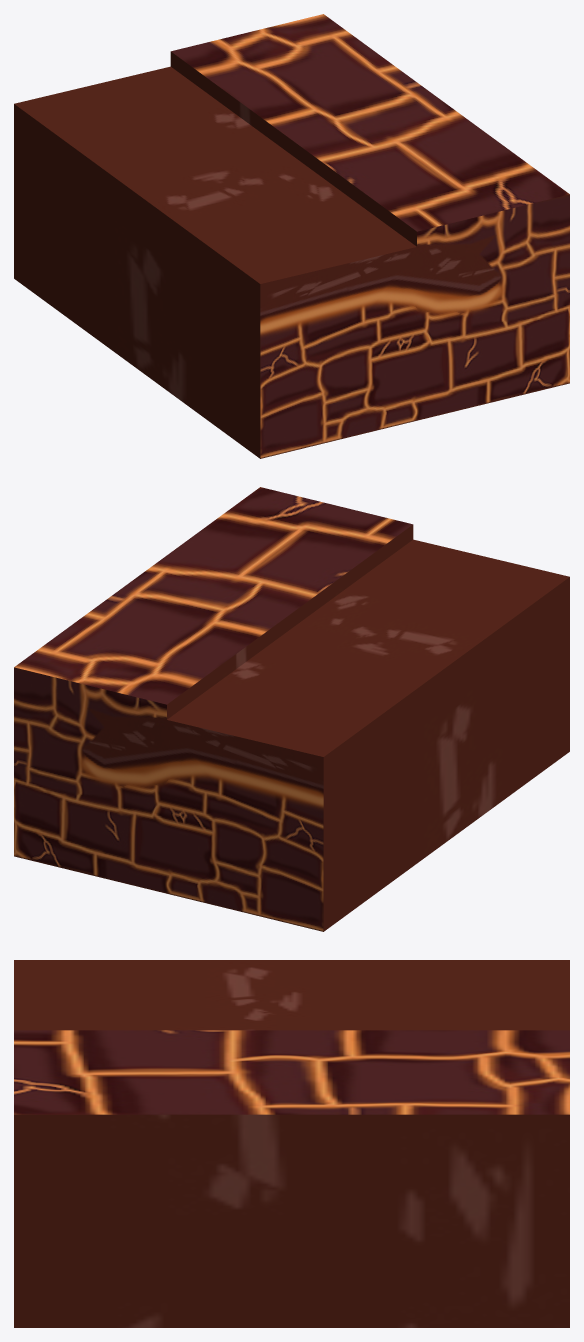
File: Volcano_R_4.fbx
3 renders of one model, top to bottom at view 1: azimuth 30°, elevation 25°; view 2: azimuth 150°, elevation 25°; view 3: azimuth 270°, elevation 25°, orthographic. The views are drawn at different scales.
Visible parts, largest first — view 1: Volcano_R_4; view 2: Volcano_R_4; view 3: Volcano_R_4.
Boxes of the visible parts, bbox=[...] form: Volcano_R_4: bbox=[14, 14, 569, 458]; Volcano_R_4: bbox=[14, 487, 569, 931]; Volcano_R_4: bbox=[14, 960, 569, 1327].
Bounding box in the file's own units: 3.09 × 1.8 × 4.26.
Materials: 1 (1 with a texture image).
